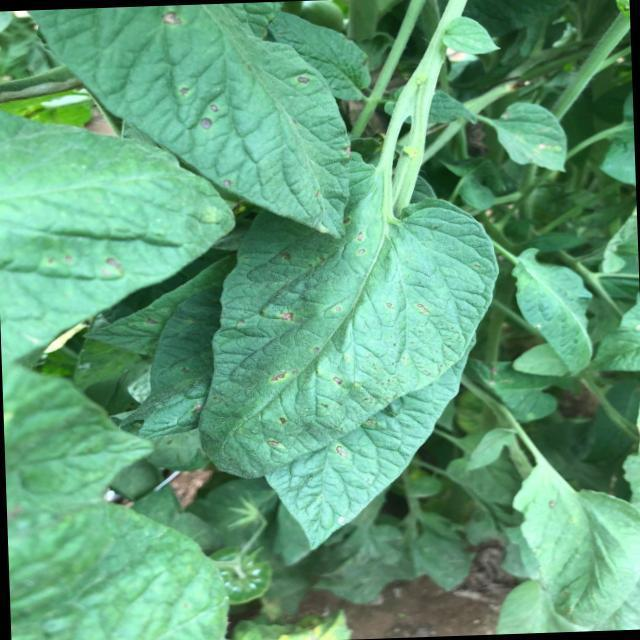Bacterial Spot: (226, 230, 474, 457), (153, 66, 314, 152)
